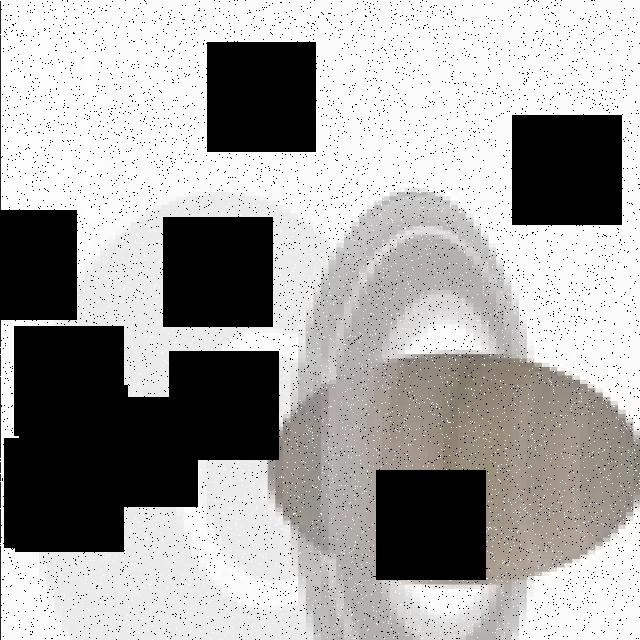Saturn: (259, 183, 640, 640)
